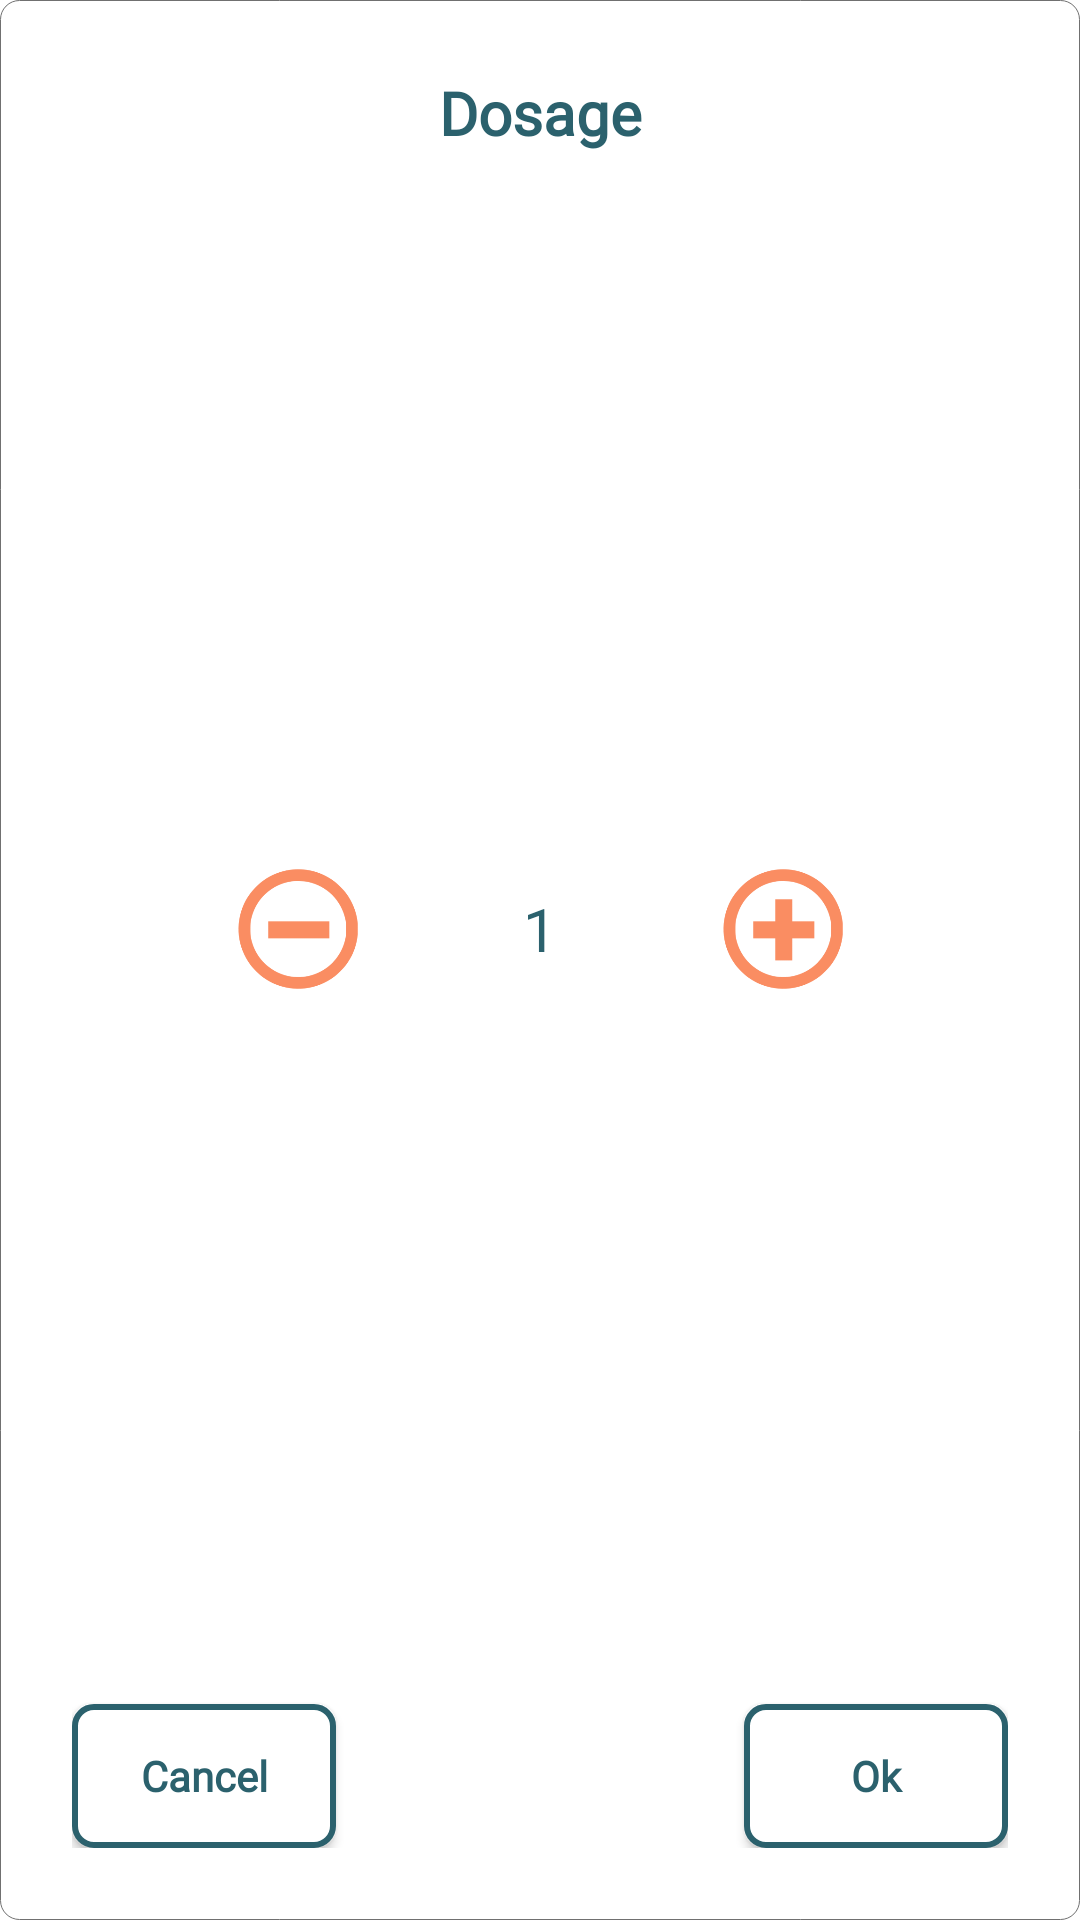

Icons on this 1080px×1920px Android screen, each with its box as (x1=x1, y1=y1, x2=x2, y2=y2):
minus: (x1=238, y1=869, x2=358, y2=989)
plus: (x1=723, y1=869, x2=843, y2=989)
